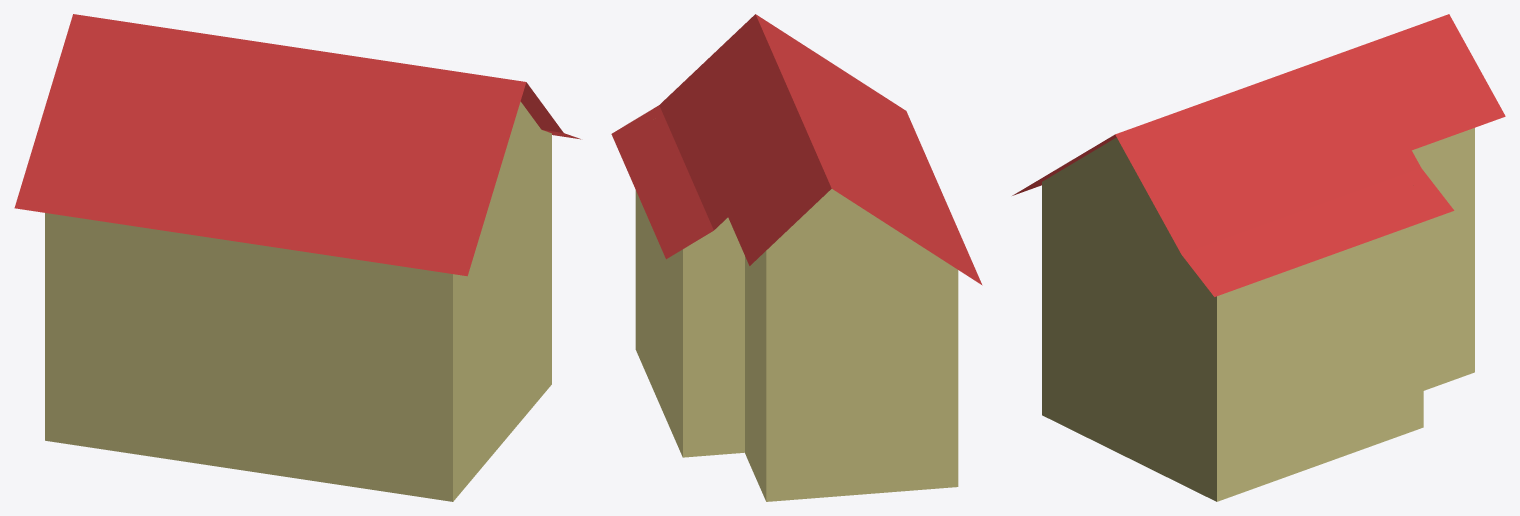
3 renders of one model, left to right at view 1: azimuth 30°, elevation 25°; view 2: azimuth 150°, elevation 25°; view 3: azimuth 270°, elevation 25°, orthographic. The views are drawn at different scales.
Bounding box in the file's own units: 18.02 × 17.04 × 12.59.
